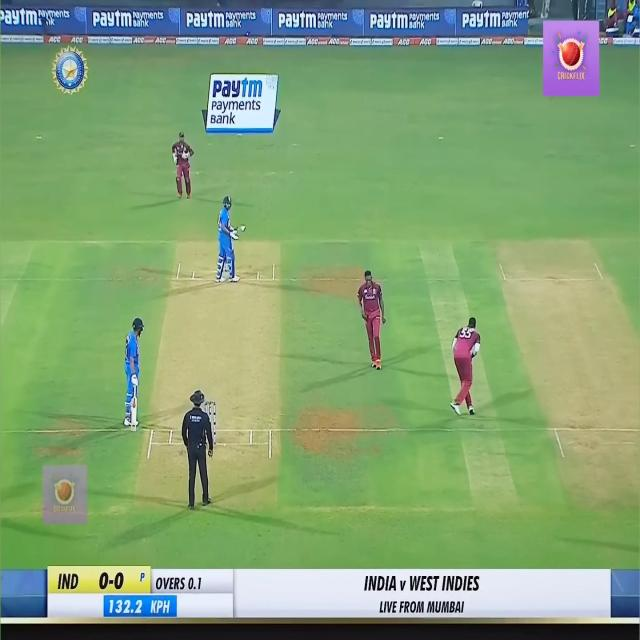fully_visible: (448, 2, 503, 39), (210, 66, 265, 102), (359, 9, 412, 40), (0, 7, 50, 37), (176, 9, 226, 33), (92, 8, 134, 34), (270, 14, 318, 33)
